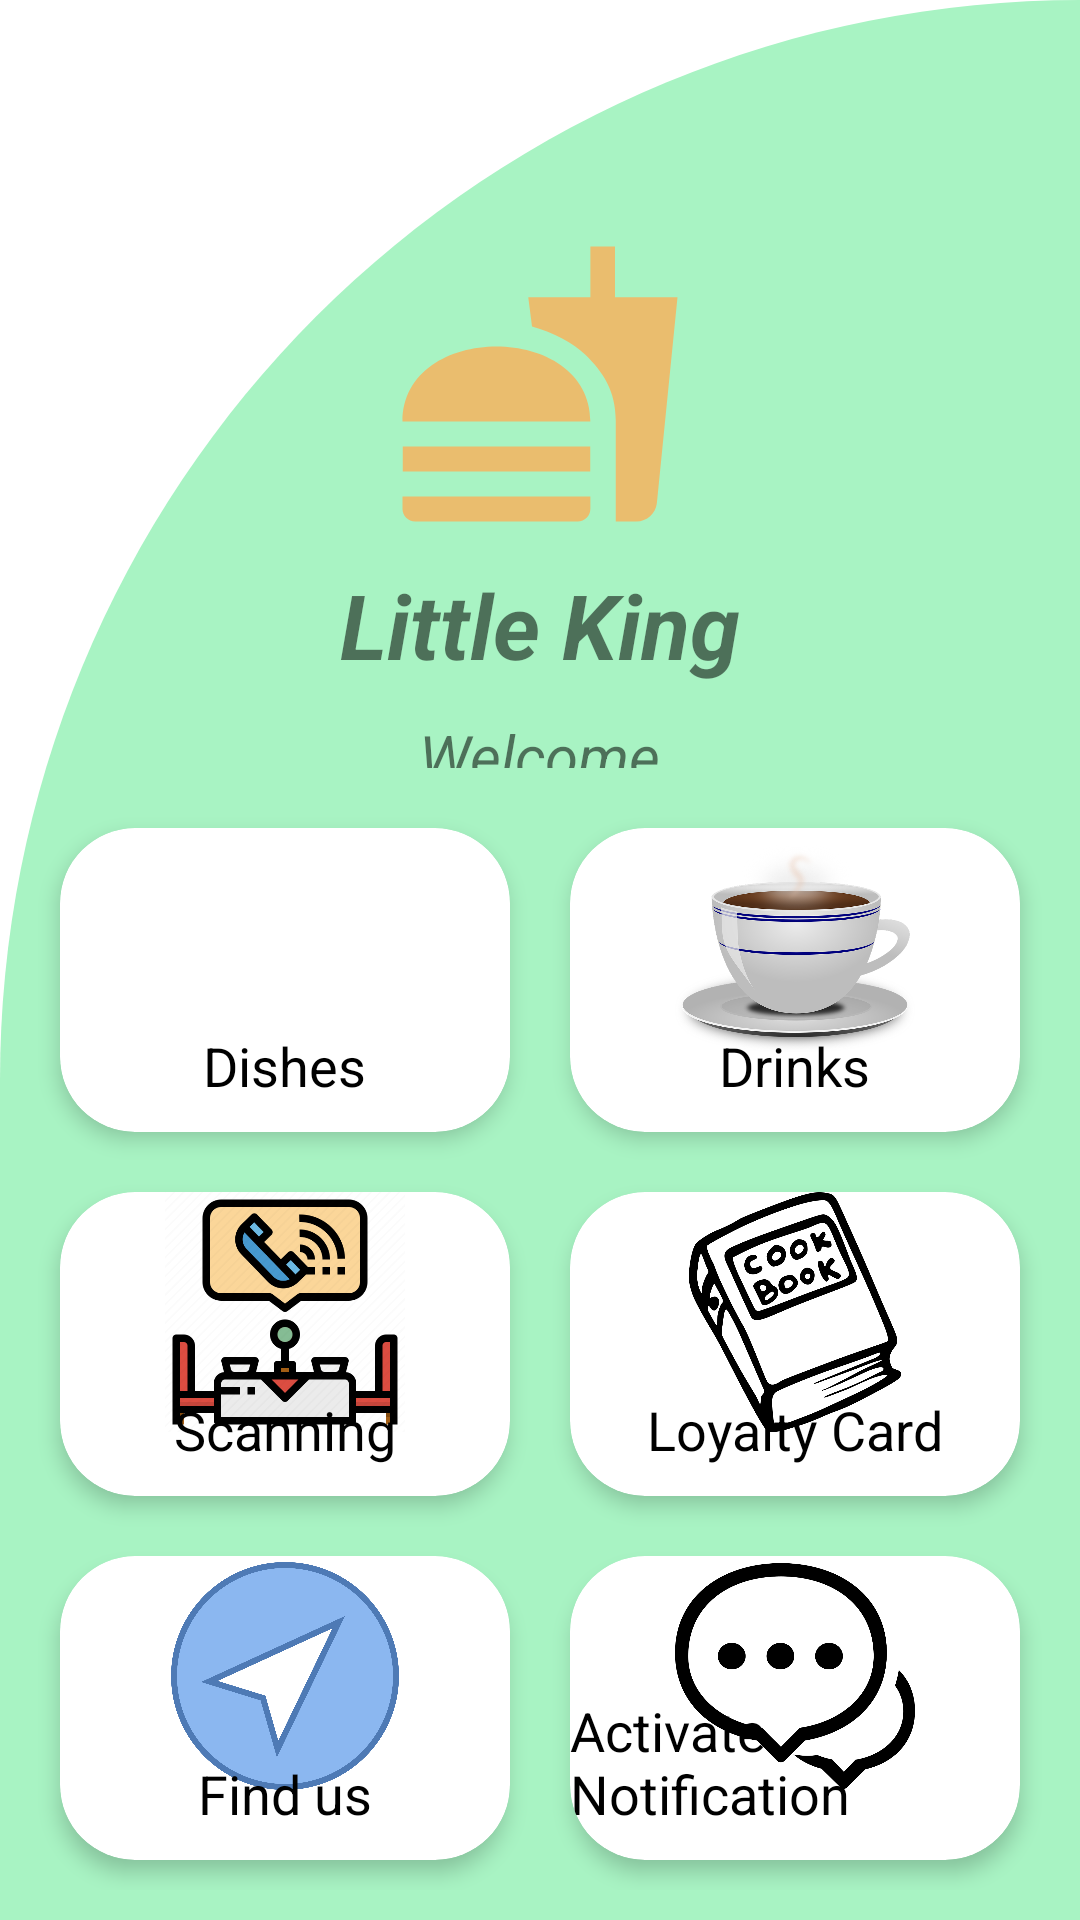

Named icons in this screenshot (1080x1920) and their centers, point (x, y):
booking: point (285, 1297)
coffee: point (796, 956)
comments: point (781, 1672)
fastfood: point (540, 384)
location: point (285, 1679)
recipe: point (796, 1312)
